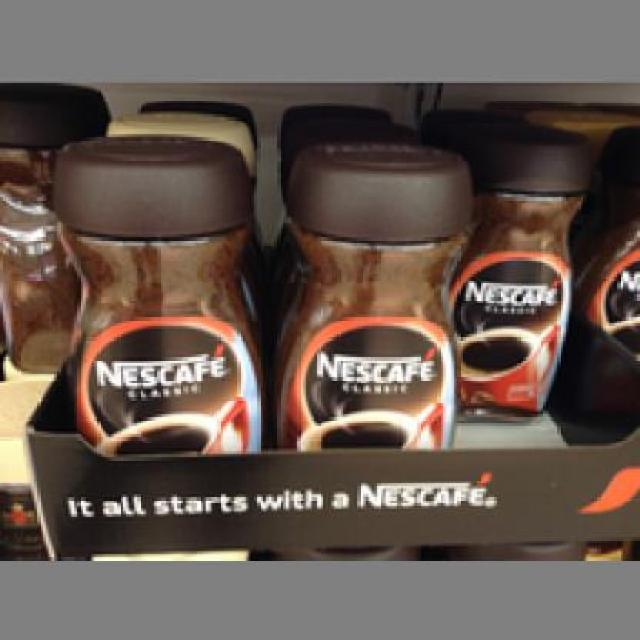Coffee: (46, 128, 263, 452), (263, 134, 472, 446), (448, 117, 592, 414)
